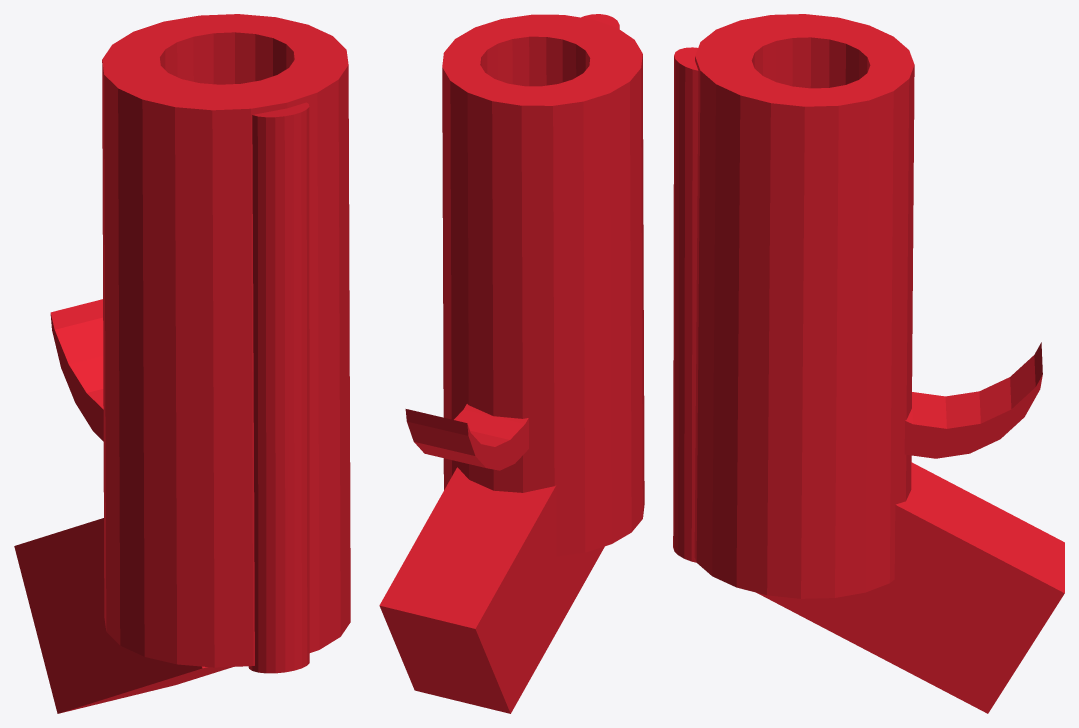
File: Pistol.obj
3 renders of one model, left to right at view 1: azimuth 30°, elevation 25°; view 2: azimuth 150°, elevation 25°; view 3: azimuth 270°, elevation 25°, orthographic. The views are drawn at different scales.
Visible parts, largest first — view 1: obj_0; view 2: obj_0; view 3: obj_0.
Part boxes in pixels (left/top/right/bottom): obj_0: left=14, top=14, right=350, bottom=713; obj_0: left=379, top=14, right=644, bottom=713; obj_0: left=673, top=14, right=1064, bottom=713.
Bounding box in the file's own units: 20 × 63.81 × 35.69.
